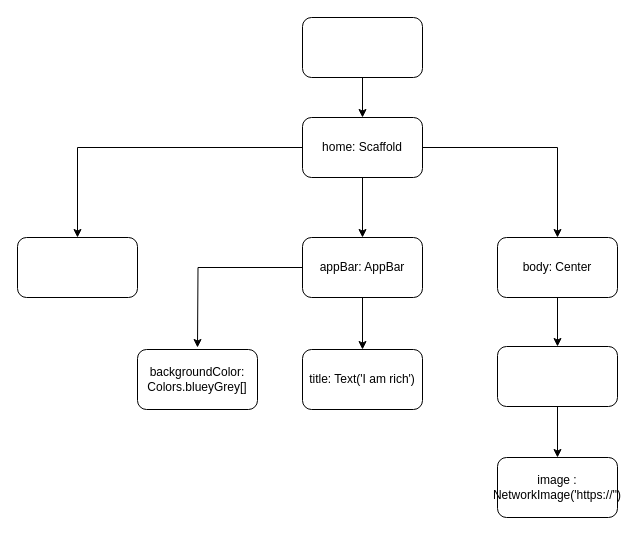
This 639x535 diagram has some shape labels left out. The shapes that lost their labels are listed below. From the top down, each one's box as (x1, y1, x2, y2) in pixels, then its label:
(302, 16, 422, 78): Material App
(16, 236, 138, 298): backgroundColor: Colors.blueGrey
(496, 346, 618, 406): child: Image
